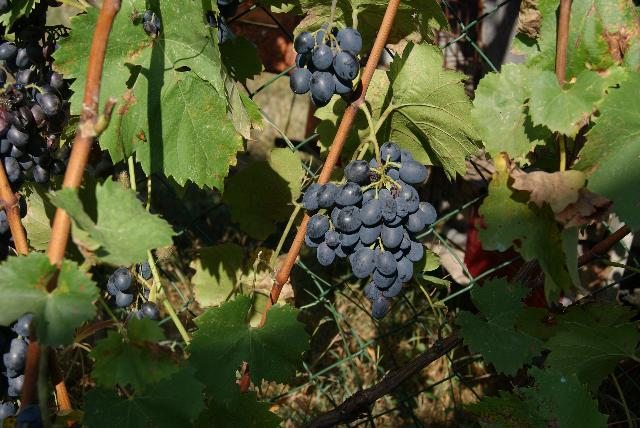grapes: (302, 142, 436, 319), (290, 24, 362, 108)
